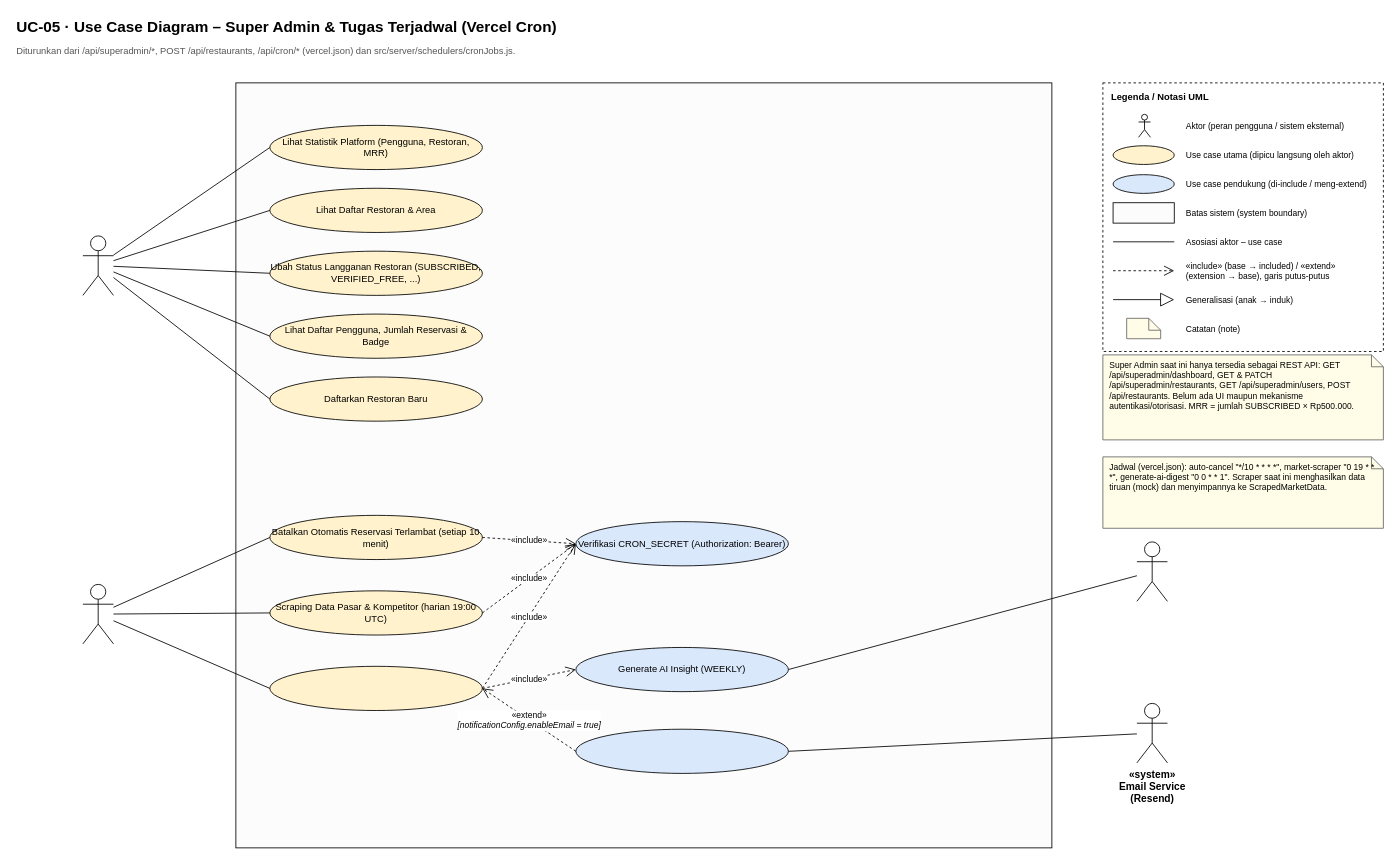
Image size: 1398x863. Some labels were removed from this diagram. Each missing label, with the box of its shape:
Generate Digest AI Mingguan (Senin 00:00 UTC): (269, 665, 482, 711)
Kirim Laporan Performa via Email: (575, 728, 788, 773)
Sistem SEATO – Back Office & Scheduler: (235, 82, 1052, 848)
Super Admin: (82, 235, 113, 295)
«system» LLM Provider (OpenAI / Anthropic): (1136, 541, 1167, 601)
«system» Vercel Cron: (82, 584, 113, 644)
